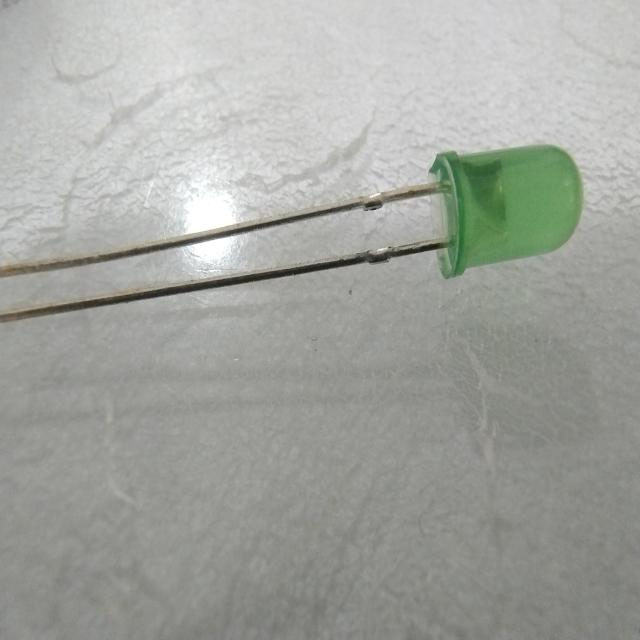green_led: (424, 135, 590, 288)
